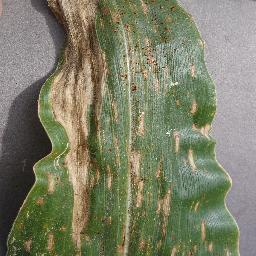Gray_Leaf_Spot: (40, 0, 111, 81), (48, 73, 110, 162), (110, 1, 165, 83), (71, 152, 102, 201), (129, 158, 167, 194), (109, 80, 123, 168), (124, 82, 145, 138), (123, 137, 142, 194), (69, 197, 90, 241), (182, 8, 204, 45), (152, 185, 172, 221), (164, 0, 180, 41), (140, 72, 162, 99), (161, 41, 175, 81), (129, 191, 145, 226), (160, 80, 180, 107), (191, 119, 212, 143), (104, 164, 119, 196), (166, 240, 196, 256), (42, 164, 58, 192), (12, 199, 29, 225), (186, 142, 199, 175), (185, 46, 198, 78), (165, 124, 179, 153), (127, 219, 140, 250), (113, 223, 125, 255), (39, 231, 52, 256), (156, 220, 165, 256), (91, 212, 113, 226), (5, 232, 17, 256), (94, 237, 108, 256), (141, 236, 154, 256), (70, 240, 86, 256), (209, 90, 218, 118), (58, 157, 66, 185), (141, 142, 156, 156), (30, 190, 41, 208), (188, 195, 199, 213), (23, 234, 32, 255), (197, 221, 207, 238), (204, 238, 215, 253), (91, 226, 104, 238), (190, 94, 197, 115), (227, 240, 236, 256), (57, 221, 66, 232), (116, 203, 121, 210)
